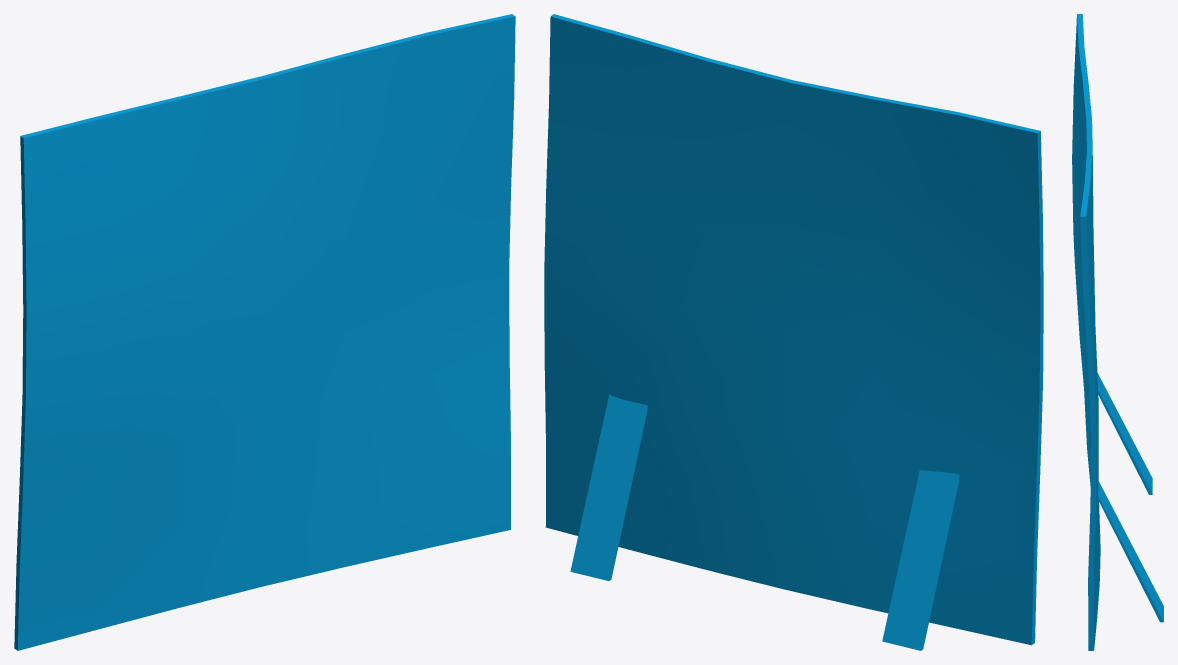
The model's file is Mur 1.fbx.
3 views of the same model, side by side, from view 1: azimuth 30°, elevation 25°; view 2: azimuth 150°, elevation 25°; view 3: azimuth 270°, elevation 25° (orthographic). The views are drawn at different scales.
Parts seen in each view (by area): view 1: Mur1; view 2: Mur1, Soutient2, Soutient1; view 3: Mur1, Soutient2, Soutient1.
Boxes of the visible parts, left/top/right/bottom form: Mur1: left=14, top=14, right=515, bottom=650; Mur1: left=544, top=14, right=1043, bottom=645; Soutient2: left=570, top=395, right=647, bottom=580; Soutient1: left=882, top=470, right=959, bottom=650; Mur1: left=1072, top=14, right=1100, bottom=650; Soutient2: left=1097, top=481, right=1163, bottom=622; Soutient1: left=1097, top=373, right=1152, bottom=494.
Bounding box in the file's own units: 250 × 250 × 47.92.
